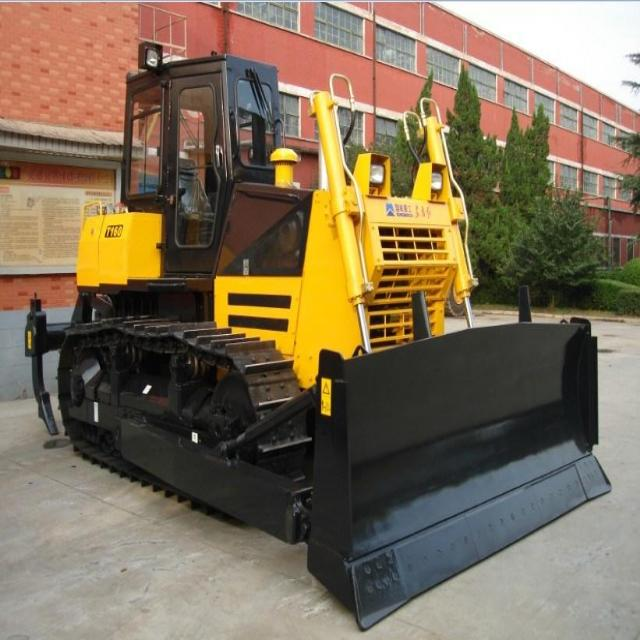Bulldozer: (24, 26, 613, 627)
